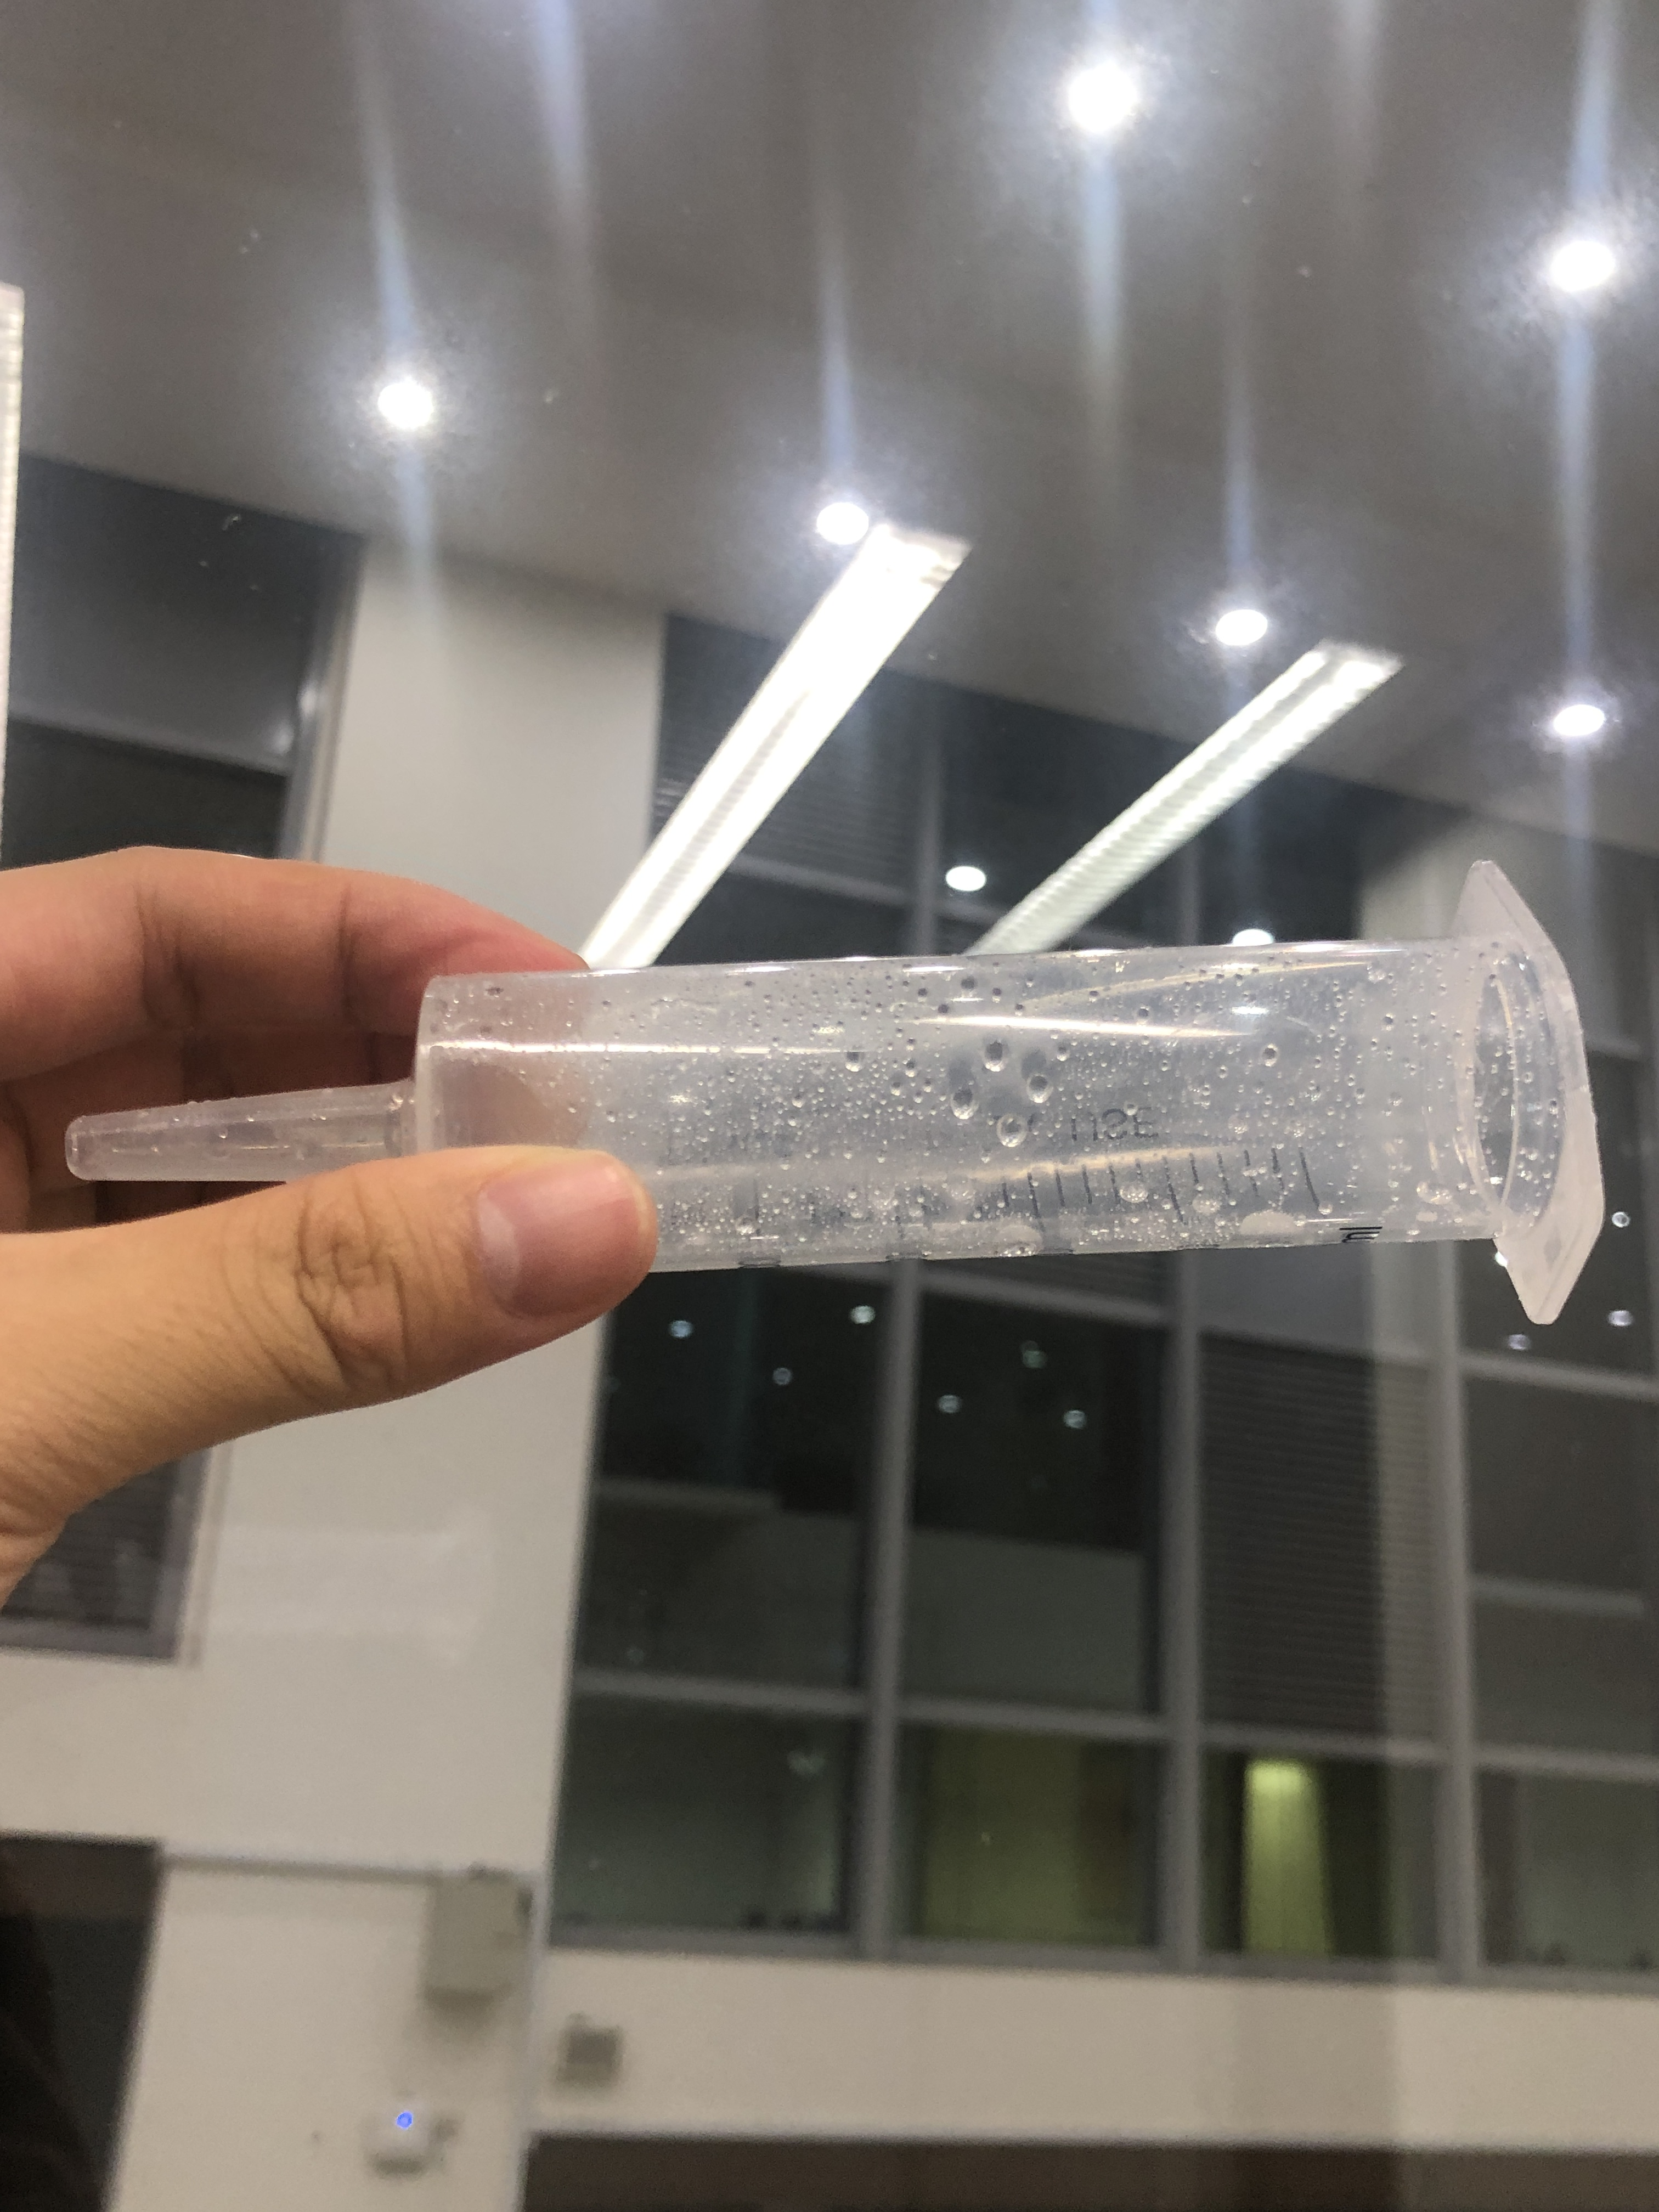syringe: (59, 857, 1610, 1331)
